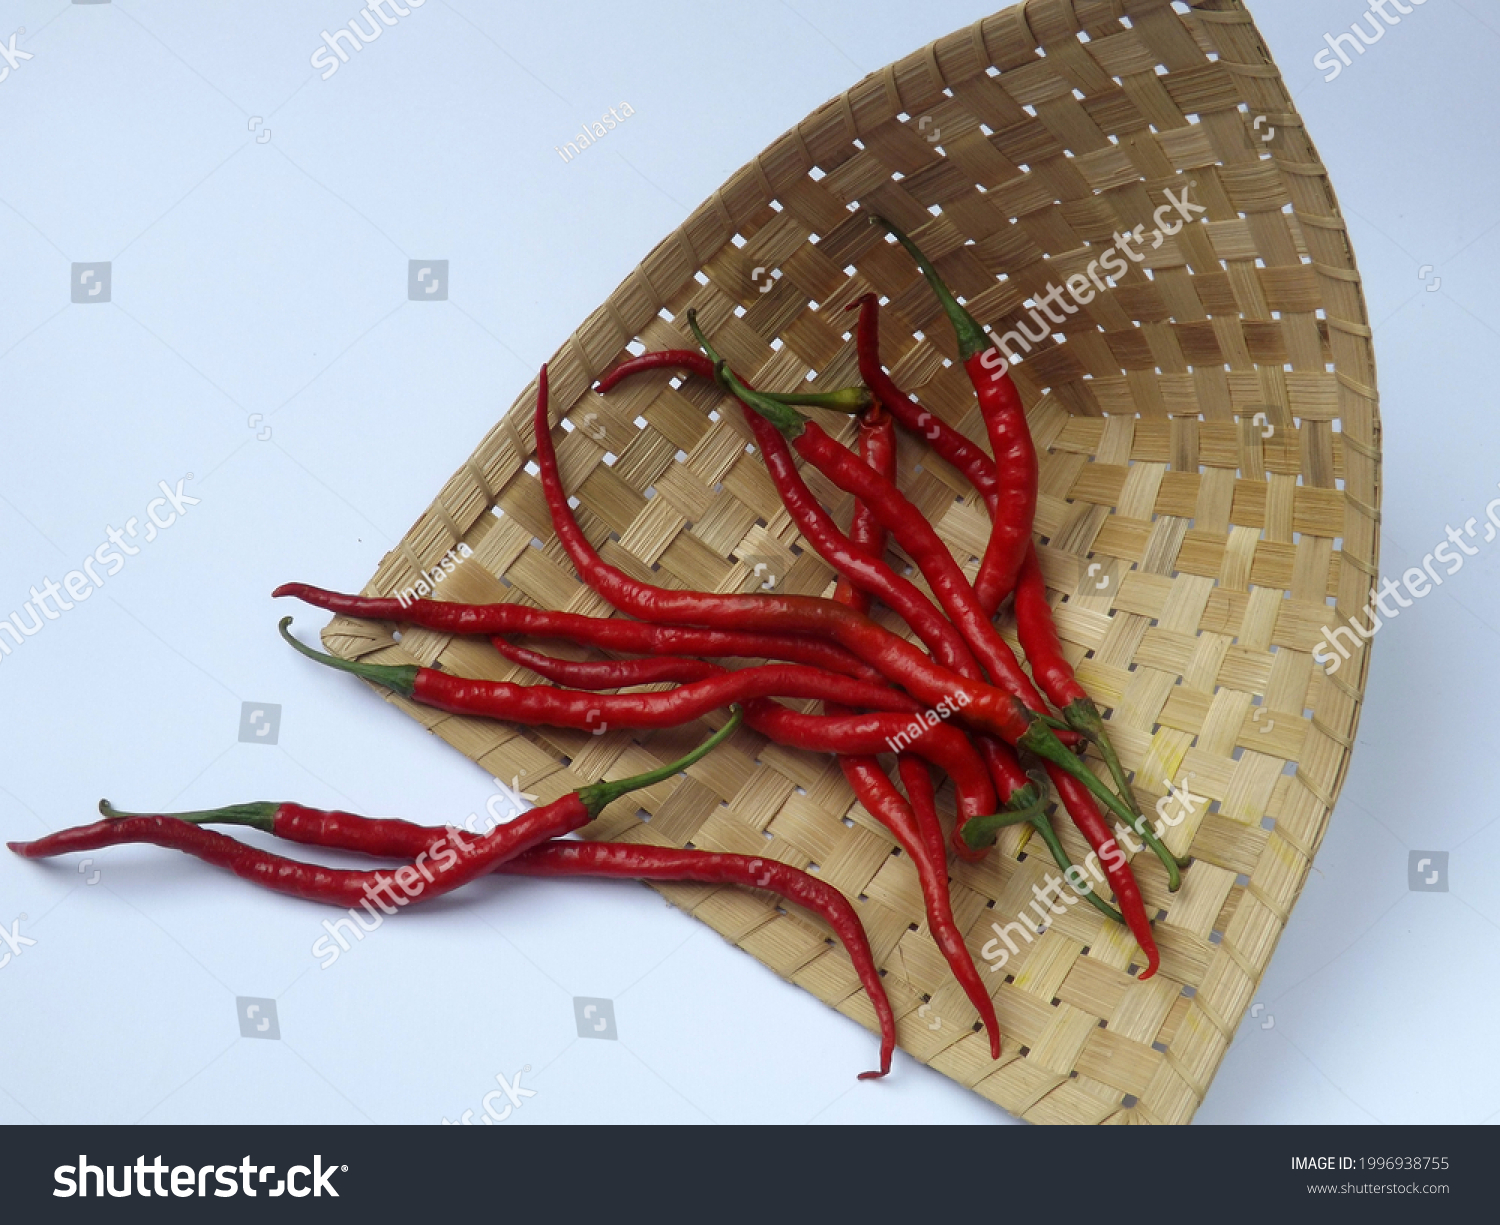Cabai: (255, 265, 1253, 826)
